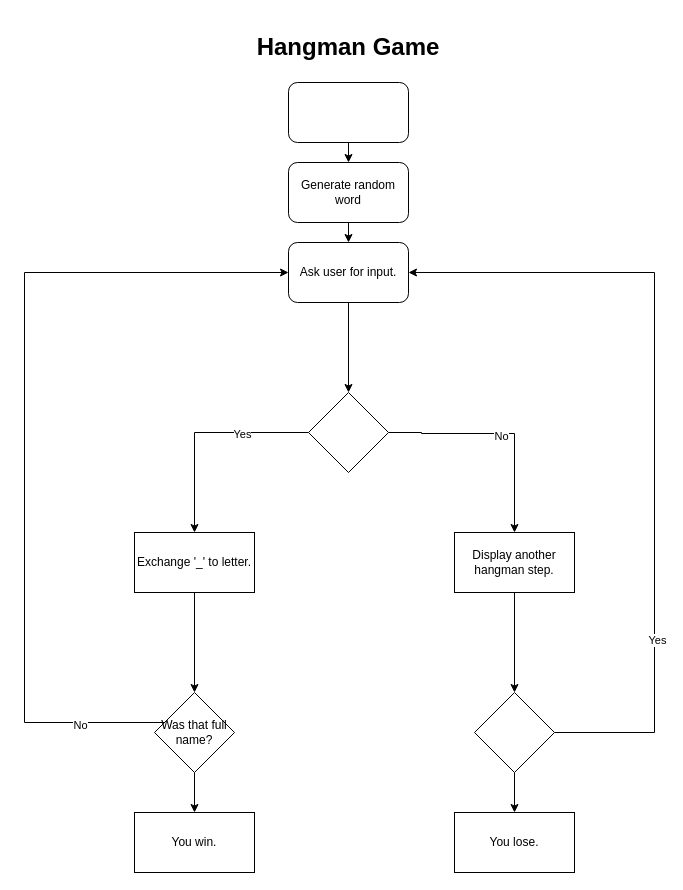
Some shapes in this 683 by 890 pixel diagram are drawn without their labels. Here are the shapes that lost their labels. From the top down, the centre of each, then its label:
[348,112]: Start
[348,432]: Was this correct?
[514,732]: Does user still have lives?
